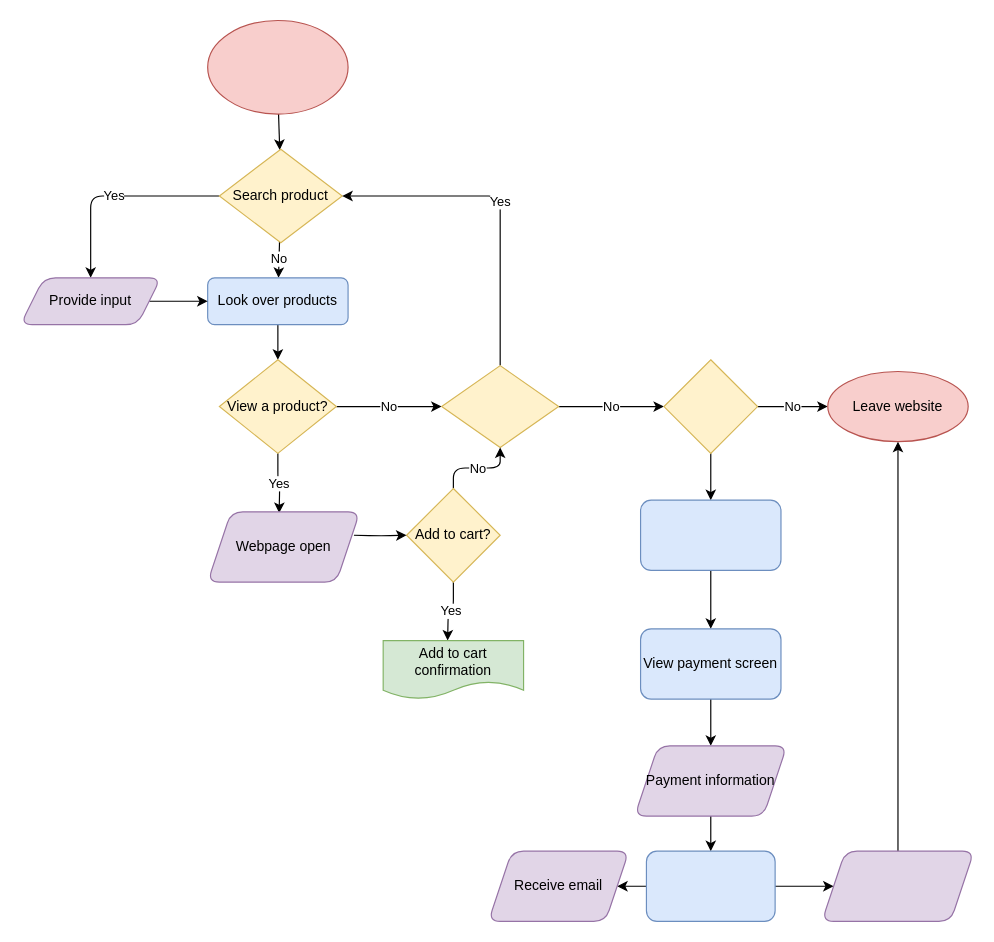
Some shapes in this 994 by 942 pixel diagram are drawn without their labels. Here are the shapes that lost their labels. From the top down, the box of each, then its label:
(207, 19, 348, 114): Enter website
(441, 364, 559, 448): Continue shopping?
(663, 359, 758, 453): Check out?
(639, 499, 781, 570): View cart screen
(645, 850, 775, 921): Pay
(821, 850, 974, 921): Receive order confirmation
